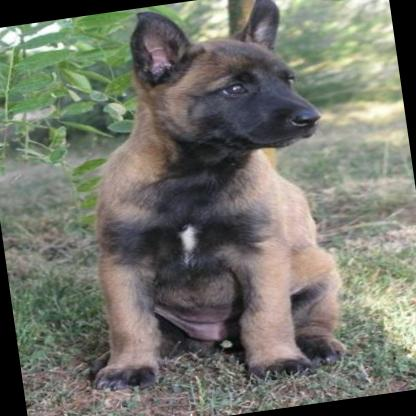malinois: (38, 0, 356, 402)
